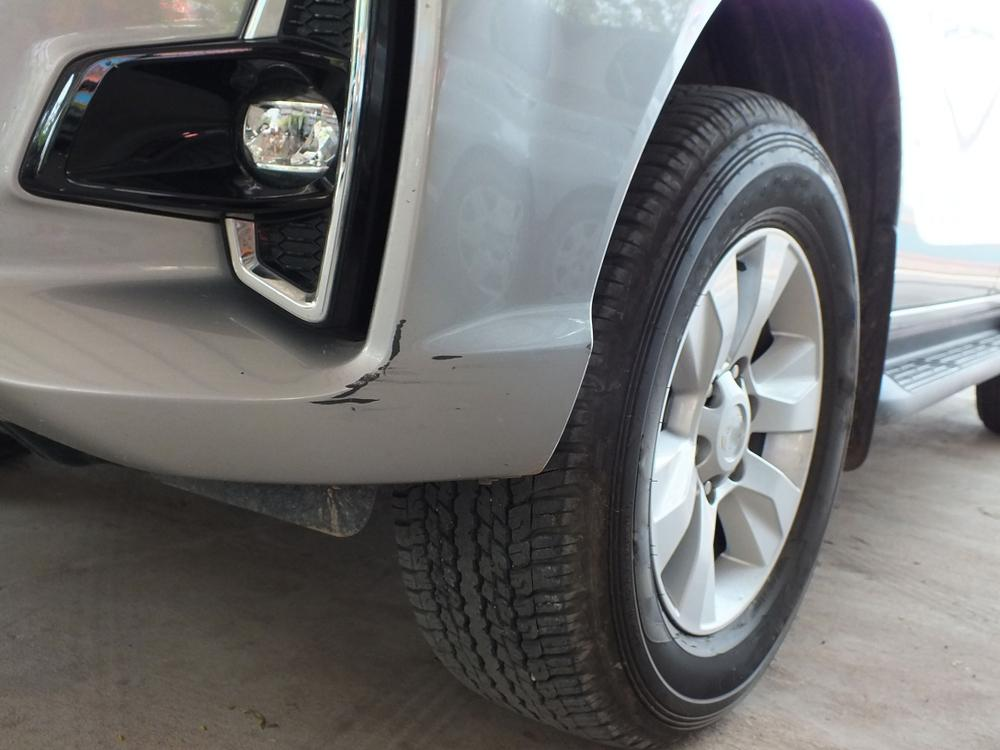scratch: (310, 317, 466, 416)
